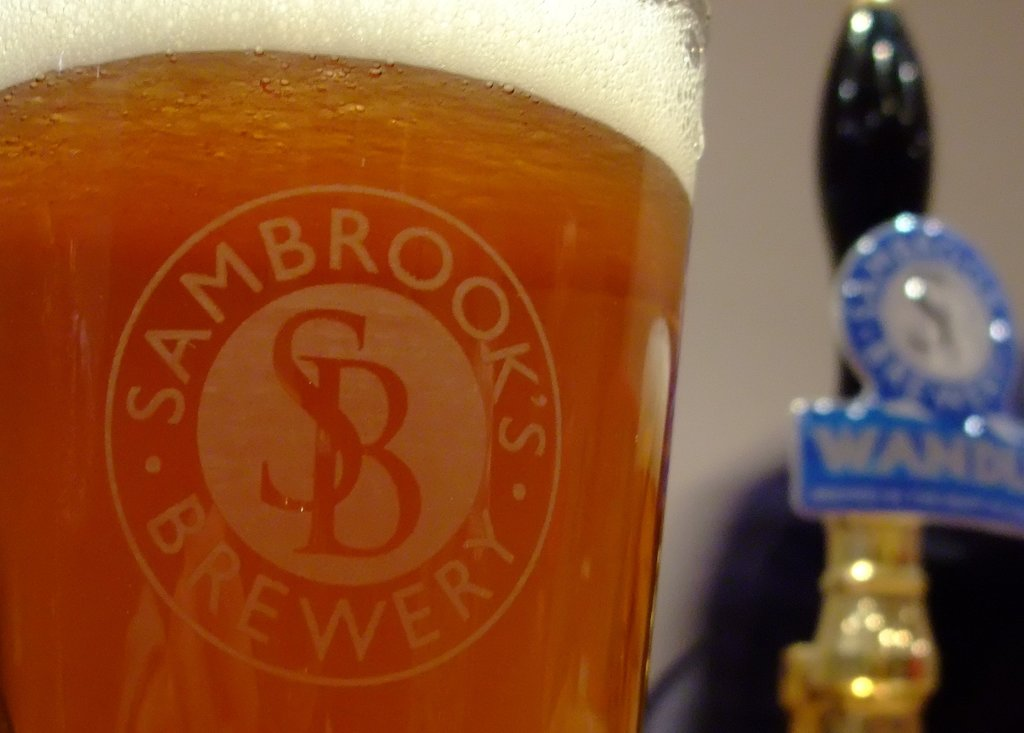Beer: (0, 2, 702, 732)
